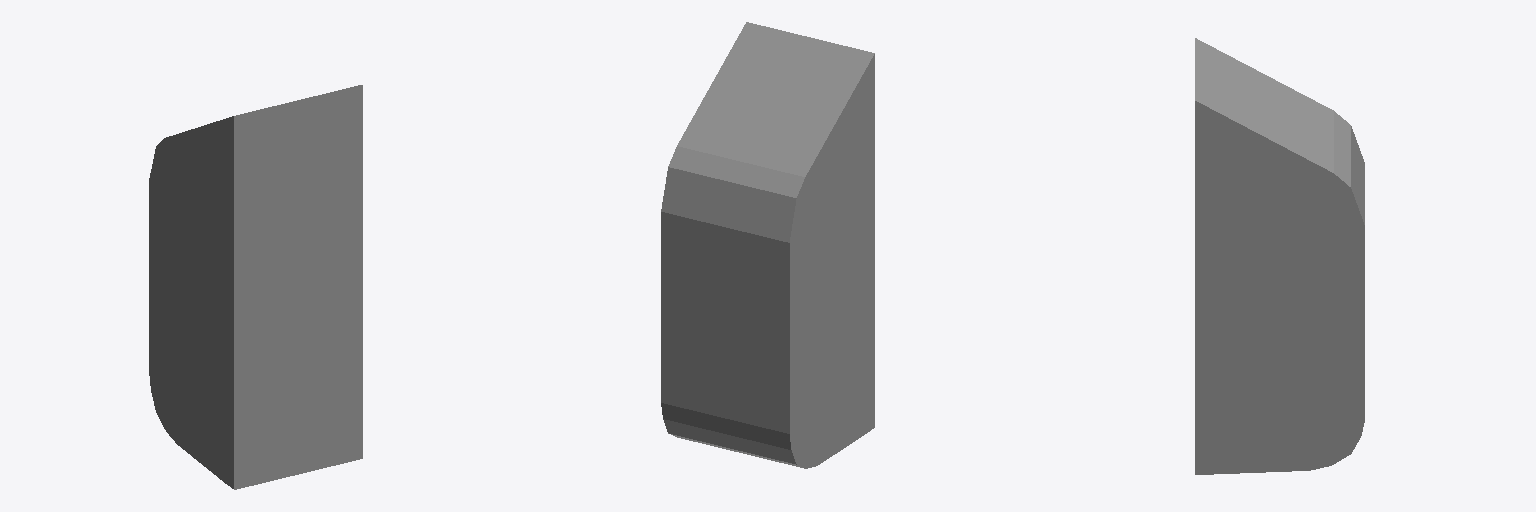
Rendered from W_QS_Coll_Slider.obj.
3 views of the same model, side by side, from view 1: azimuth 30°, elevation 25°; view 2: azimuth 150°, elevation 25°; view 3: azimuth 270°, elevation 25° (orthographic).
Visible parts, largest first — view 1: Slider_Ru7; view 2: Slider_Ru7; view 3: Slider_Ru7.
Part boxes in pixels (left/top/right/bottom): Slider_Ru7: left=149, top=85, right=362, bottom=489; Slider_Ru7: left=661, top=22, right=874, bottom=468; Slider_Ru7: left=1195, top=38, right=1364, bottom=474.
Bounding box in the file's own units: 0.0051 × 0.0142 × 0.0059.